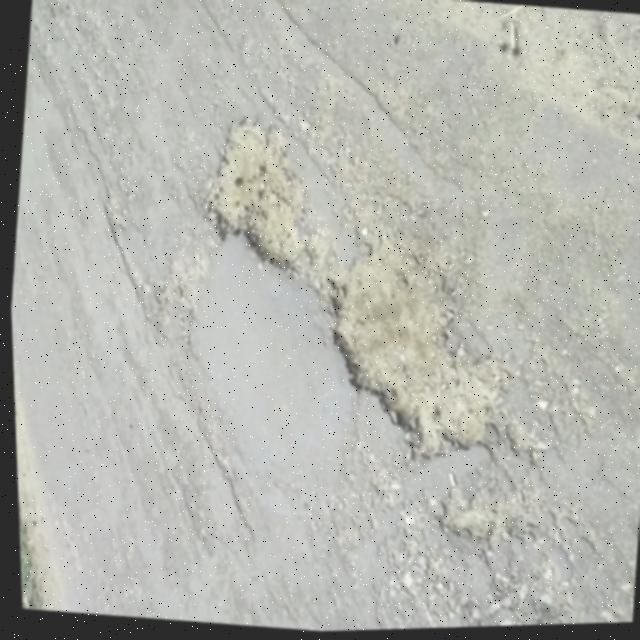pothole: (308, 232, 528, 486), (190, 104, 338, 300)
